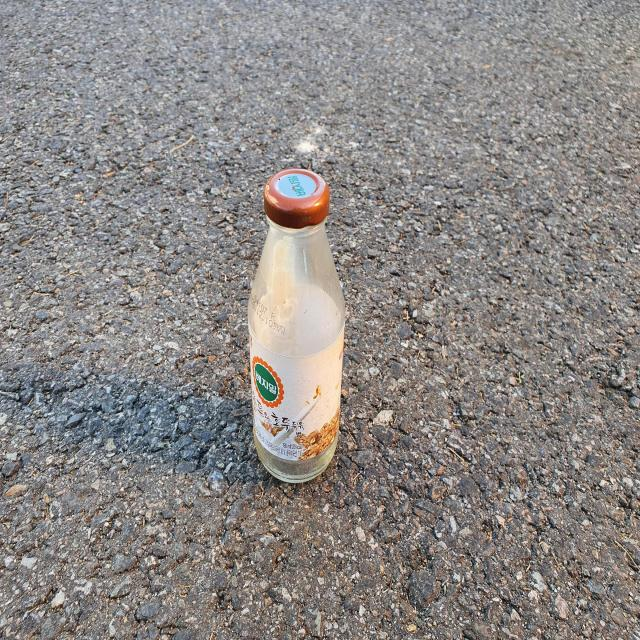glass: (248, 168, 345, 482)
